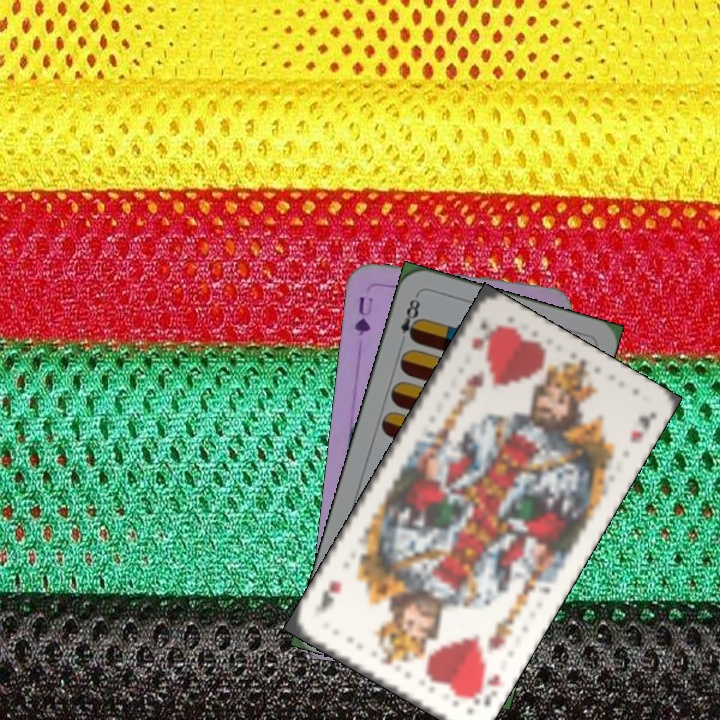E8: (396, 291, 423, 344)
GU: (350, 292, 376, 339)
HK: (466, 666, 505, 710), (466, 318, 490, 354)
